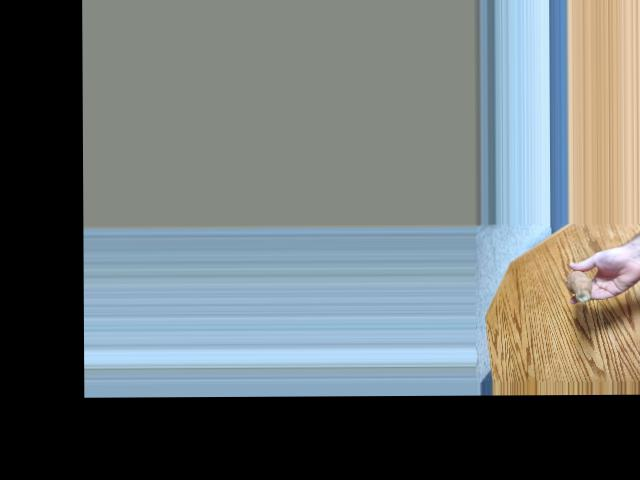sweet_potato: (555, 266, 591, 302)
